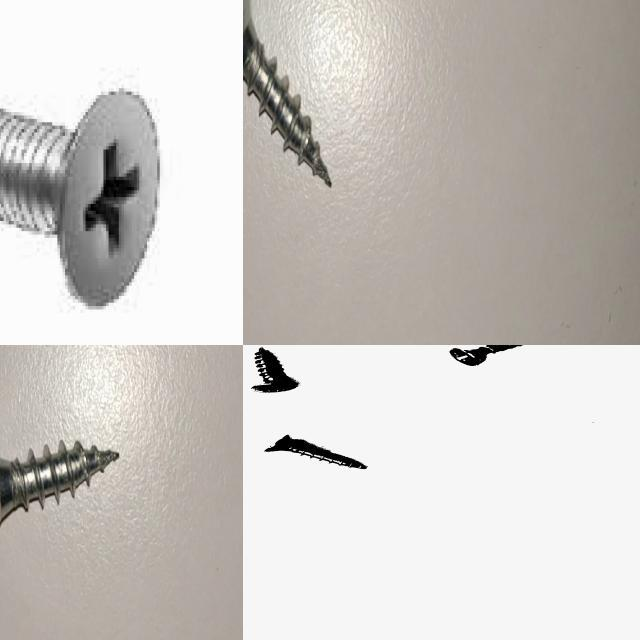Screw: (0, 76, 173, 314), (243, 0, 332, 186), (0, 441, 119, 523), (263, 435, 366, 469), (250, 348, 298, 393), (448, 345, 523, 366)
